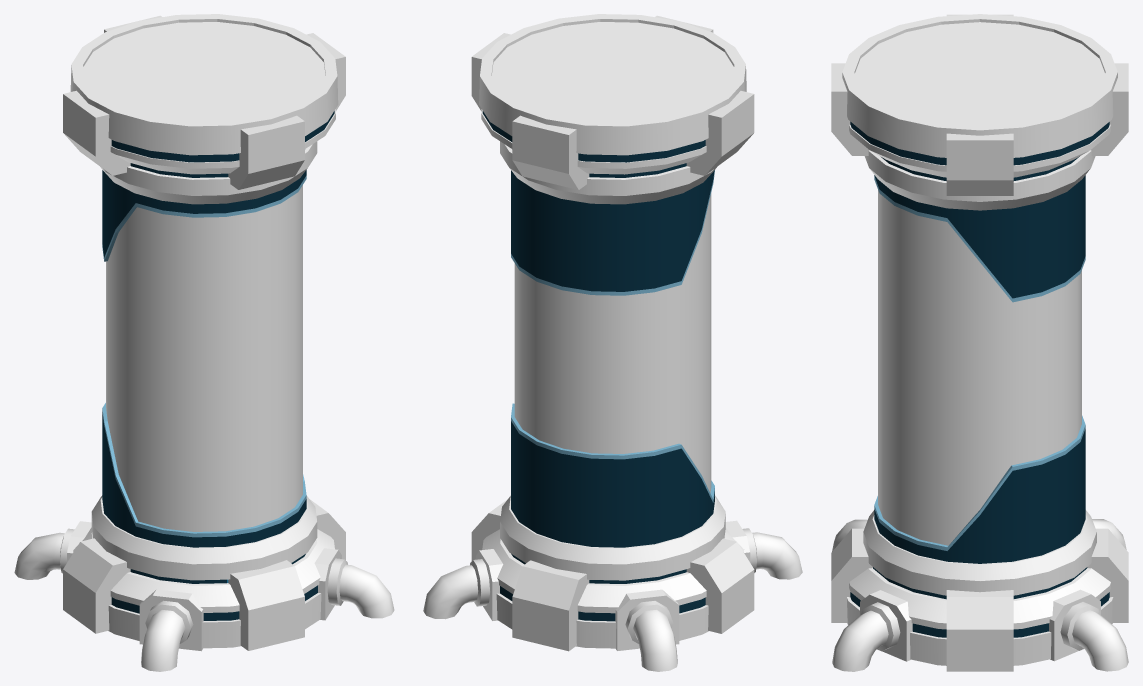
File: Props_Pod.004.fbx
3 renders of one model, left to right at view 1: azimuth 30°, elevation 25°; view 2: azimuth 150°, elevation 25°; view 3: azimuth 270°, elevation 25°, orthographic. The views are drawn at different scales.
Parts seen in each view (by area): view 1: Props_Pod.004; view 2: Props_Pod.004; view 3: Props_Pod.004.
Part boxes in pixels (<box>): Props_Pod.004: <box>14,14,394,671</box>; Props_Pod.004: <box>423,14,802,671</box>; Props_Pod.004: <box>831,14,1128,671</box>.
Size of the model in its own units: 1.81 by 3.61 by 1.81.
